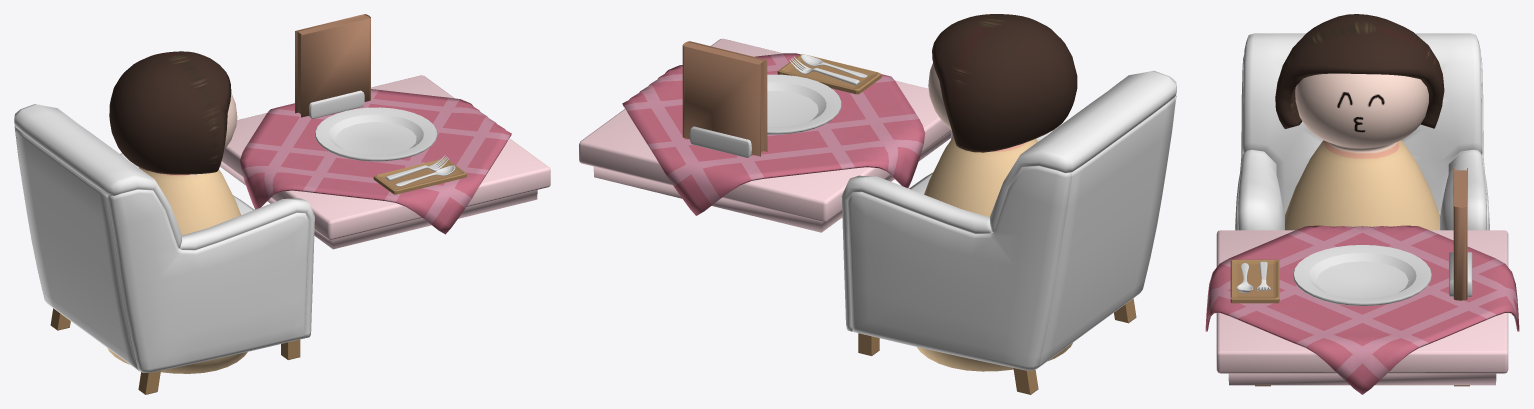
Rendered from Customer Without Table Legs.fbx.
3 views of the same model, side by side, from view 1: azimuth 30°, elevation 25°; view 2: azimuth 150°, elevation 25°; view 3: azimuth 270°, elevation 25° (orthographic). The views are drawn at different scales.
Visible parts, largest first — view 1: CHAIR, seat, hair, table, book, plate, human, tray, menugrip, iq_Pages_Library_Book-Old_E; view 2: CHAIR, seat, hair, table, book, human, plate, tray, menugrip, iq_Pages_Library_Book-Old_E; view 3: seat, CHAIR, human, table, hair, plate, tray, book, menugrip, iq_Pages_Library_Book-Old_E.
Boxes of the visible parts, <box> form: CHAIR: <box>14,104,314,394</box>; seat: <box>240,89,511,234</box>; hair: <box>109,51,231,174</box>; table: <box>220,75,550,249</box>; book: <box>295,14,370,117</box>; plate: <box>315,107,437,161</box>; human: <box>107,93,247,373</box>; tray: <box>373,158,466,194</box>; menugrip: <box>309,90,364,118</box>; iq_Pages_Library_Book-Old_E: <box>297,15,369,113</box>; CHAIR: <box>841,70,1176,394</box>; seat: <box>622,53,925,215</box>; hair: <box>932,14,1077,152</box>; table: <box>579,38,950,232</box>; book: <box>682,41,767,156</box>; human: <box>917,62,1072,371</box>; plate: <box>767,74,841,134</box>; tray: <box>777,54,881,94</box>; menugrip: <box>689,126,751,157</box>; iq_Pages_Library_Book-Old_E: <box>683,42,764,152</box>; seat: <box>1205,225,1519,394</box>; CHAIR: <box>1235,33,1489,386</box>; human: <box>1285,73,1439,230</box>; table: <box>1216,230,1508,385</box>; hair: <box>1275,14,1444,128</box>; plate: <box>1293,245,1431,305</box>; tray: <box>1230,259,1279,303</box>; book: <box>1453,168,1467,300</box>; menugrip: <box>1449,252,1472,296</box>; iq_Pages_Library_Book-Old_E: <box>1454,170,1466,206</box>.
Size of the model in its own units: 391 by 257 by 215.
6 materials, 1 textured.
